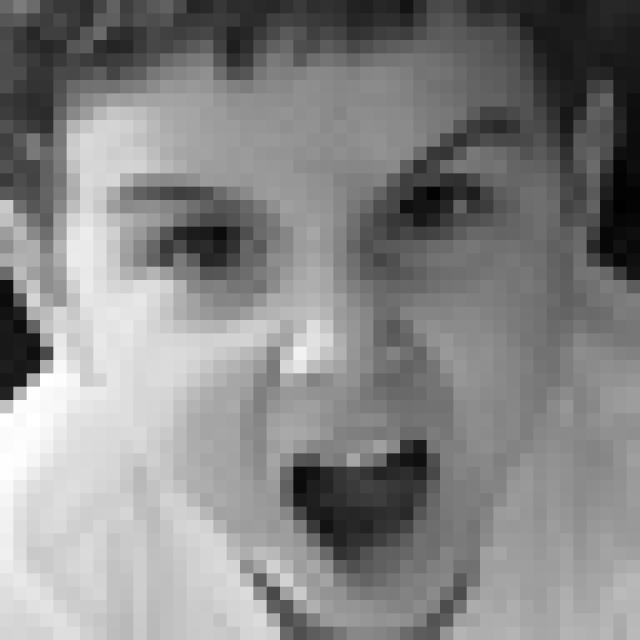angry: (100, 109, 530, 585)
